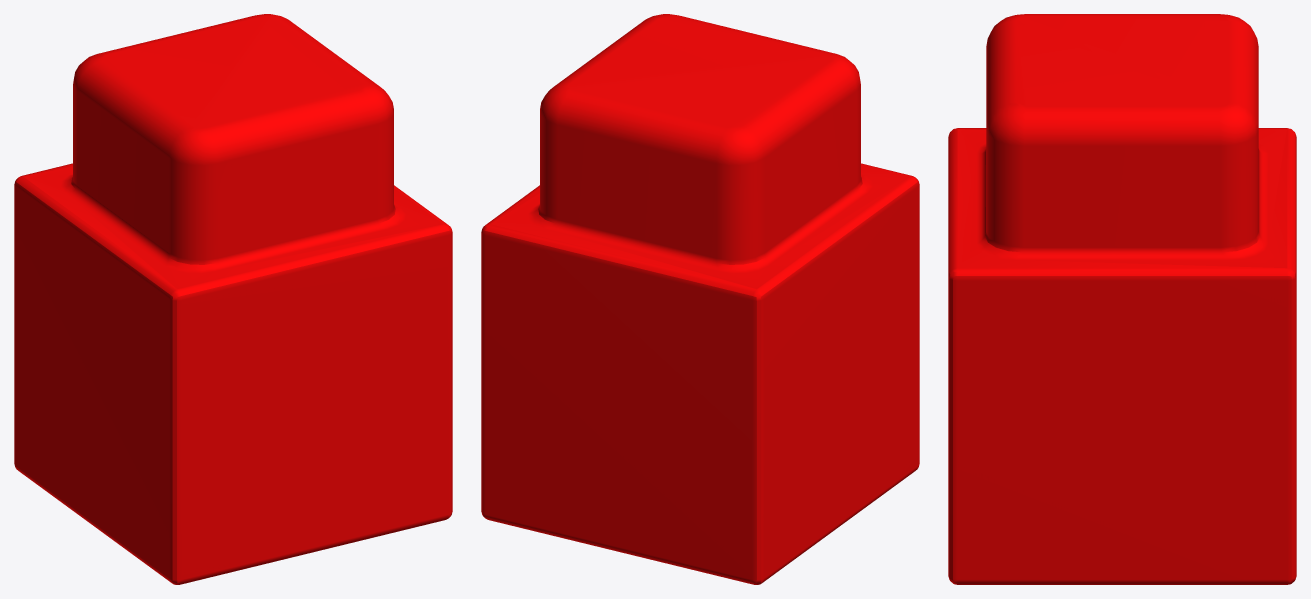
File: sm_single_lego.fbx
3 views of the same model, side by side, from view 1: azimuth 30°, elevation 25°; view 2: azimuth 150°, elevation 25°; view 3: azimuth 270°, elevation 25° (orthographic). The views are drawn at different scales.
Visible parts, largest first — view 1: singlelego_low; view 2: singlelego_low; view 3: singlelego_low.
Boxes of the visible parts, box(x1,y1,x2,y2) form: singlelego_low: box(14, 14, 452, 584); singlelego_low: box(481, 14, 919, 584); singlelego_low: box(948, 14, 1296, 584).
Size of the model in its own units: 23.93 by 34.31 by 23.93.
